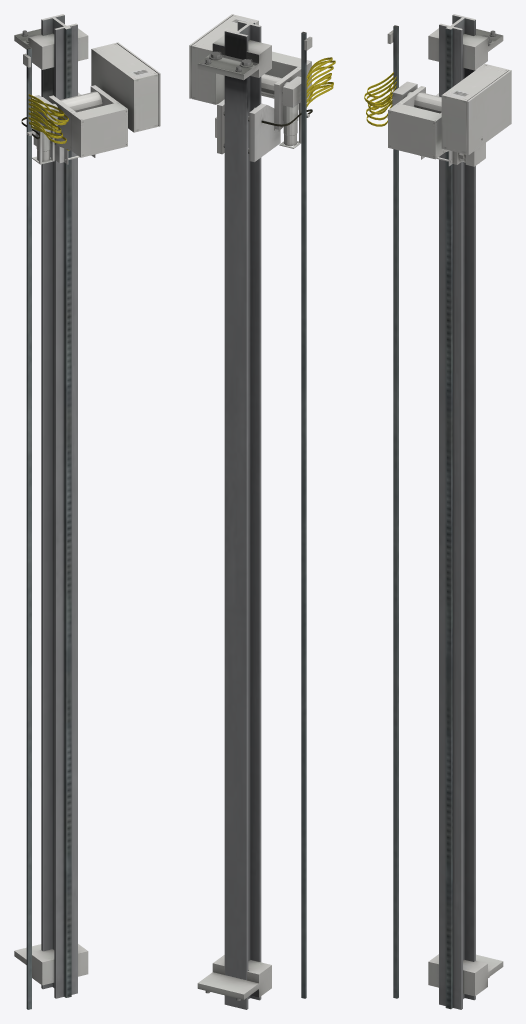
File: pontRoulandBiPoutrePoutreMobile-hd.fbx
The picture shows the model from 3 angles, left to right: view 1: azimuth 30°, elevation 25°; view 2: azimuth 150°, elevation 25°; view 3: azimuth 330°, elevation 25°; orthographic projection.
Visible parts, largest first — view 1: ShapeIndexedFaceSet; view 2: ShapeIndexedFaceSet; view 3: ShapeIndexedFaceSet.
Boxes of the visible parts, left/top/right/bottom form: ShapeIndexedFaceSet: left=14, top=14, right=160, bottom=1009; ShapeIndexedFaceSet: left=189, top=14, right=335, bottom=1009; ShapeIndexedFaceSet: left=364, top=14, right=511, bottom=1009.
Size of the model in its own units: 1.27 by 11 by 1.4.
